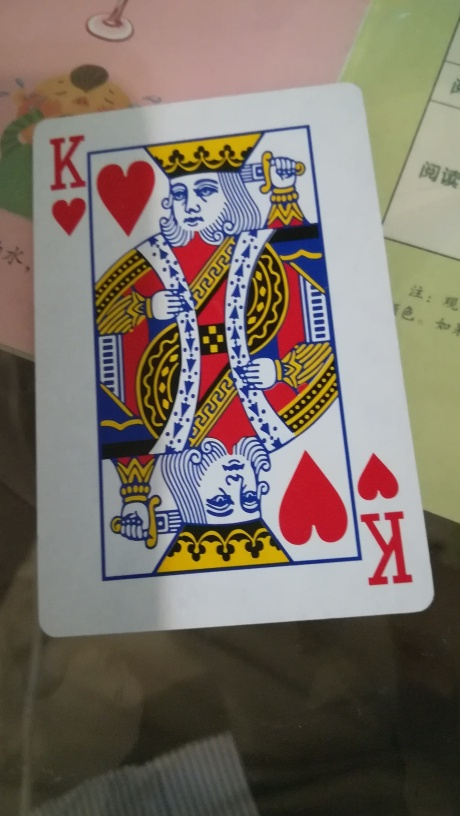hx k: (25, 99, 433, 630)
